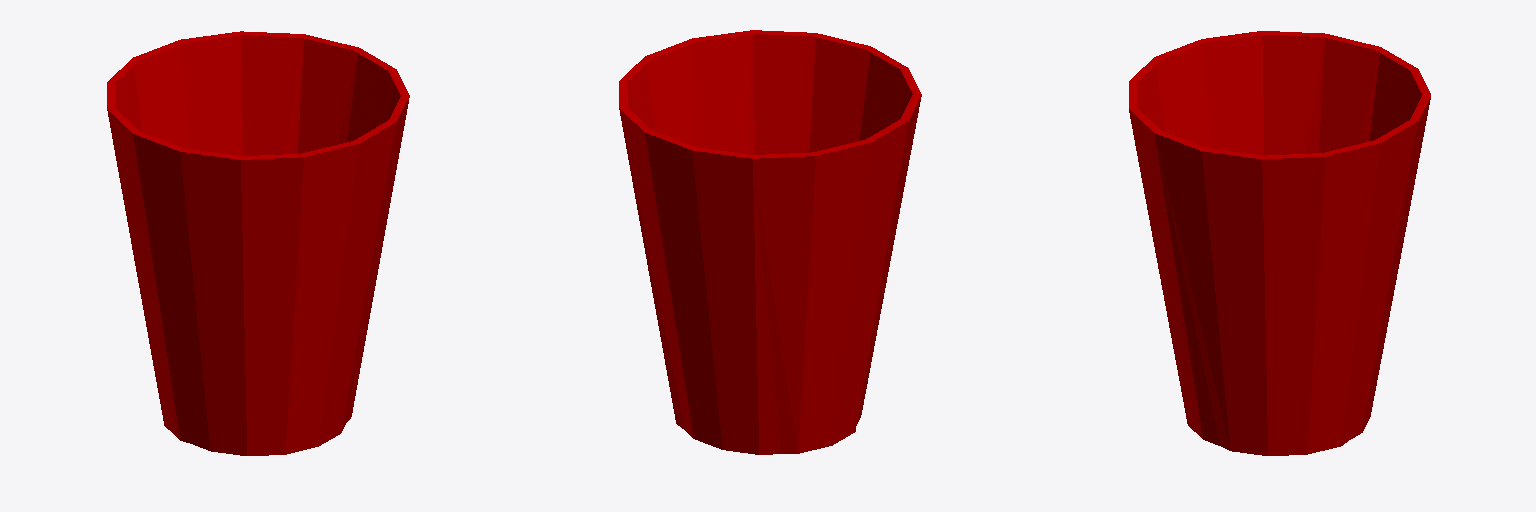
The model's file is RedSoloCup.obj.
3 views of the same model, side by side, from view 1: azimuth 30°, elevation 25°; view 2: azimuth 150°, elevation 25°; view 3: azimuth 270°, elevation 25° (orthographic).
Visible parts, largest first — view 1: Cylinder; view 2: Cylinder; view 3: Cylinder.
Part boxes in pixels (bbox=[...]): Cylinder: bbox=[107, 31, 409, 455]; Cylinder: bbox=[619, 30, 921, 454]; Cylinder: bbox=[1129, 31, 1430, 455].
Size of the model in its own units: 1.86 by 2.16 by 1.85.